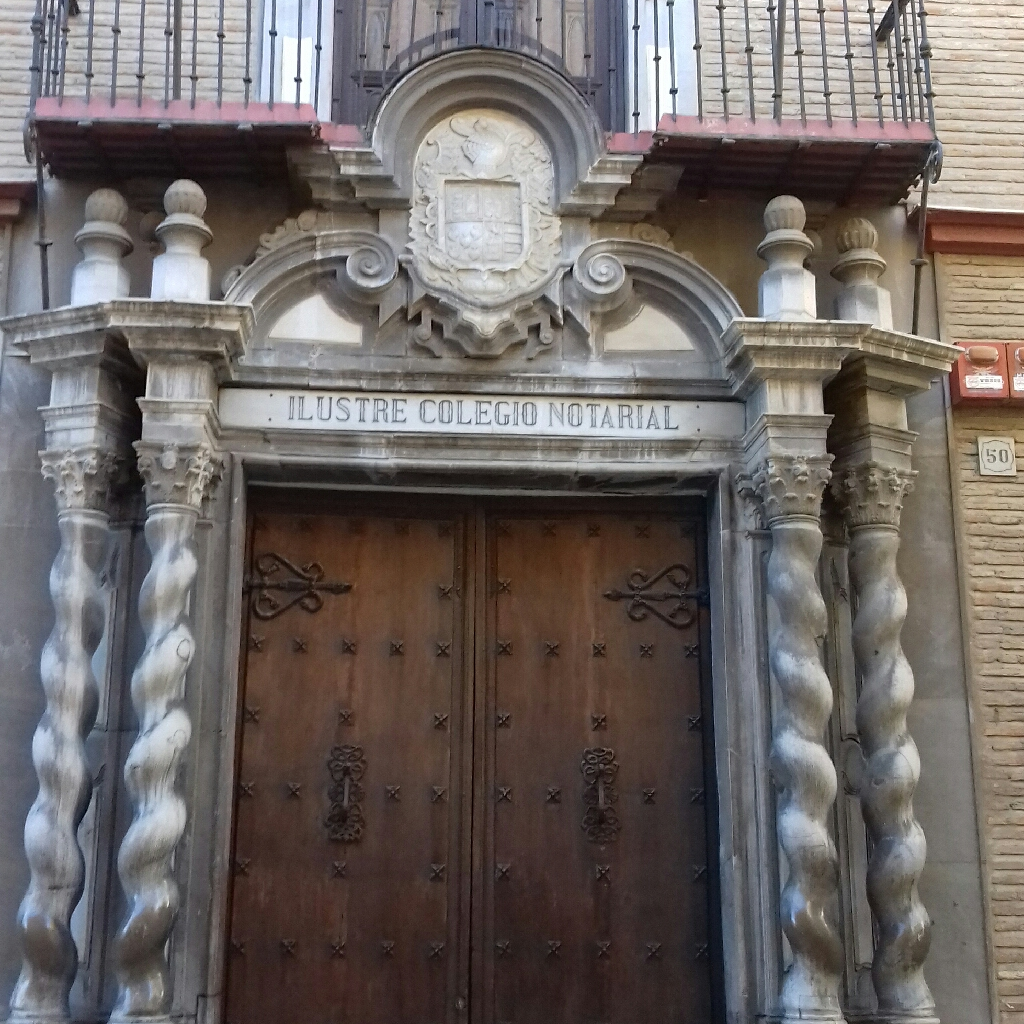columna-salomonica: (7, 465, 120, 1022), (751, 468, 856, 1021), (108, 495, 212, 1009), (846, 516, 951, 1021)
fronton-partido: (188, 212, 760, 383)
vano-adintelado: (209, 418, 757, 1024)
